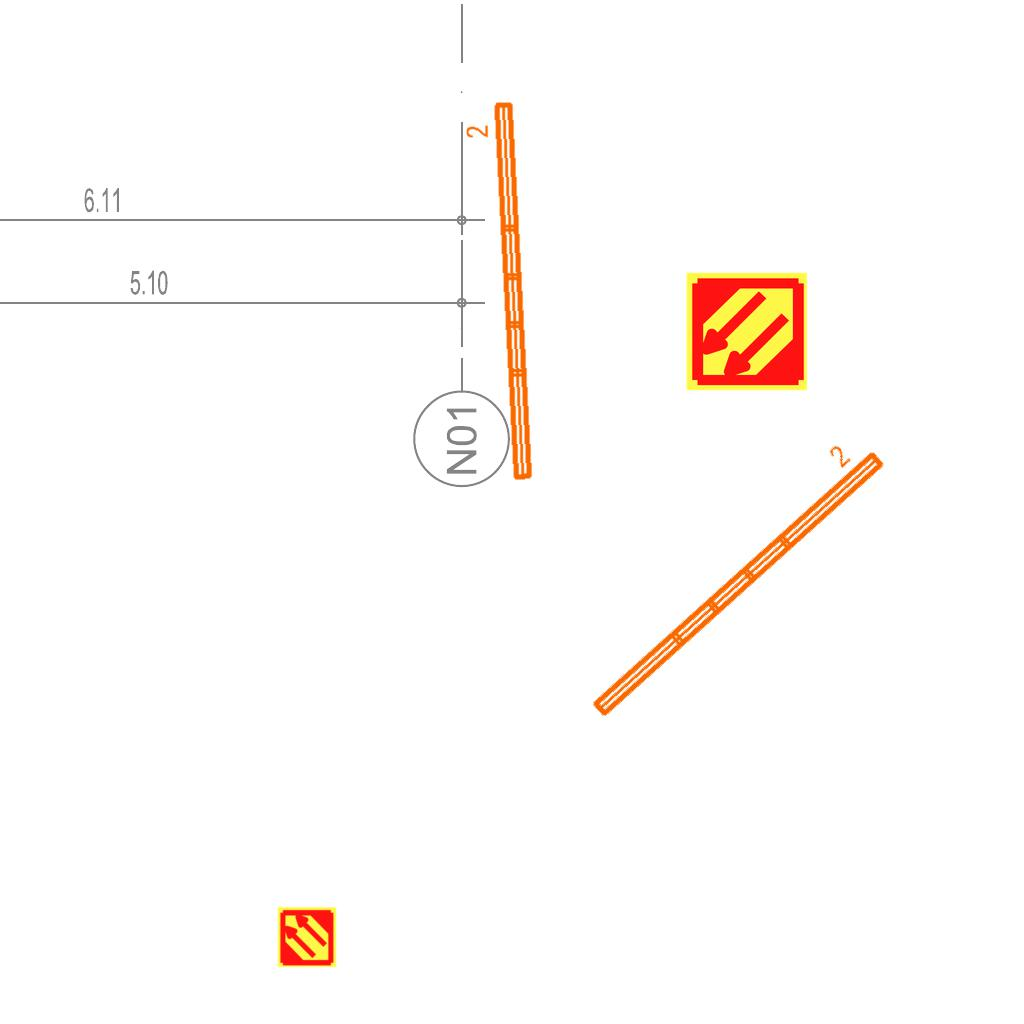ASR_Ansaugrauchmelder: (684, 269, 809, 394), (276, 906, 338, 968)
Ambulanz_Pendelleuchte_LED: (566, 424, 893, 726), (462, 97, 539, 487)
